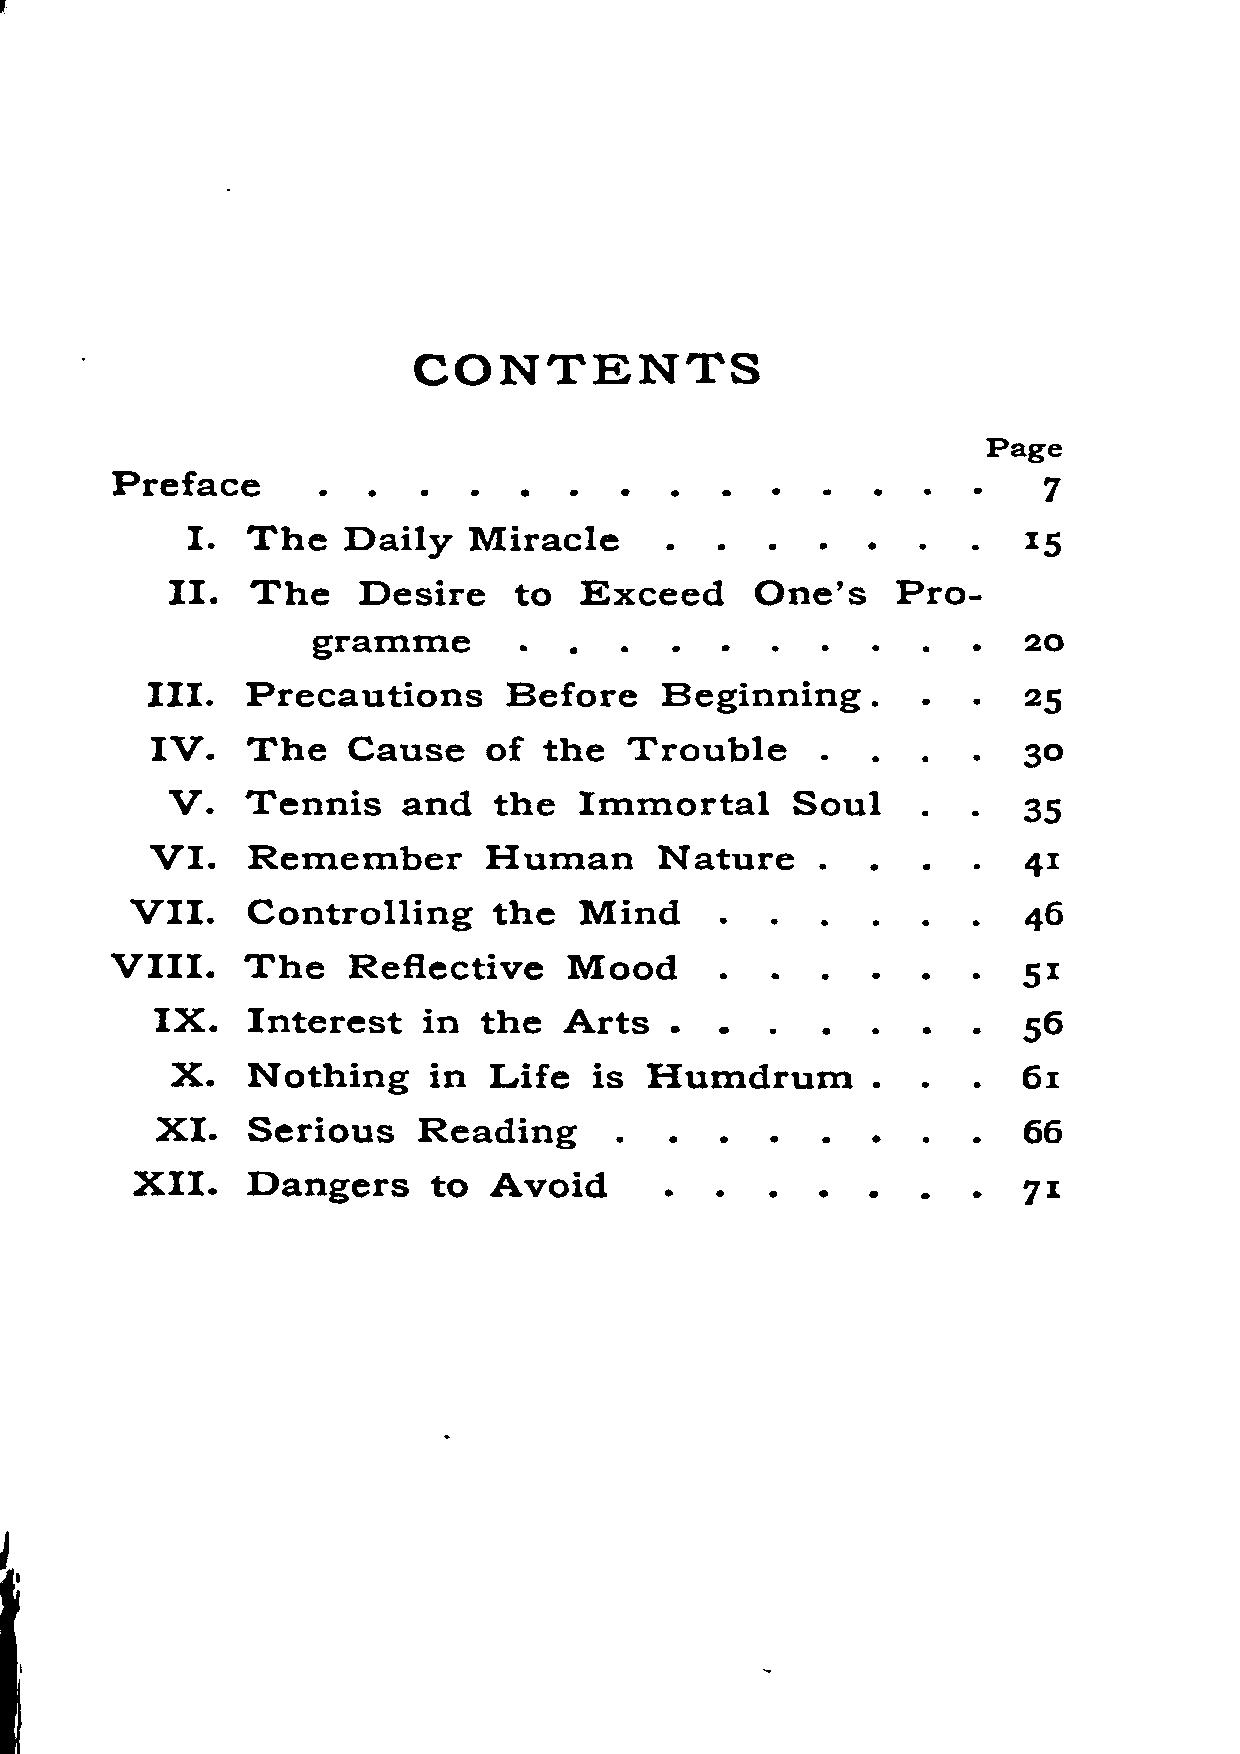TOC_chapter: (161, 568, 990, 666), (142, 672, 867, 715), (165, 782, 886, 820), (164, 1056, 856, 1092), (144, 836, 798, 872), (144, 729, 793, 765), (105, 947, 684, 986), (125, 892, 688, 929), (129, 1164, 611, 1205), (148, 1002, 650, 1039), (184, 519, 631, 560), (153, 1113, 581, 1149)
TOC_pagenumber: (1020, 1055, 1059, 1096), (1017, 738, 1067, 769), (1024, 519, 1063, 558), (1027, 895, 1066, 931), (1020, 682, 1059, 717), (1023, 958, 1062, 992), (1019, 1118, 1062, 1147), (1027, 1011, 1063, 1045), (1021, 1172, 1057, 1206), (1021, 849, 1060, 880), (1017, 629, 1070, 652), (1021, 796, 1063, 824), (1033, 471, 1071, 501)
chapter: (411, 348, 768, 388)
